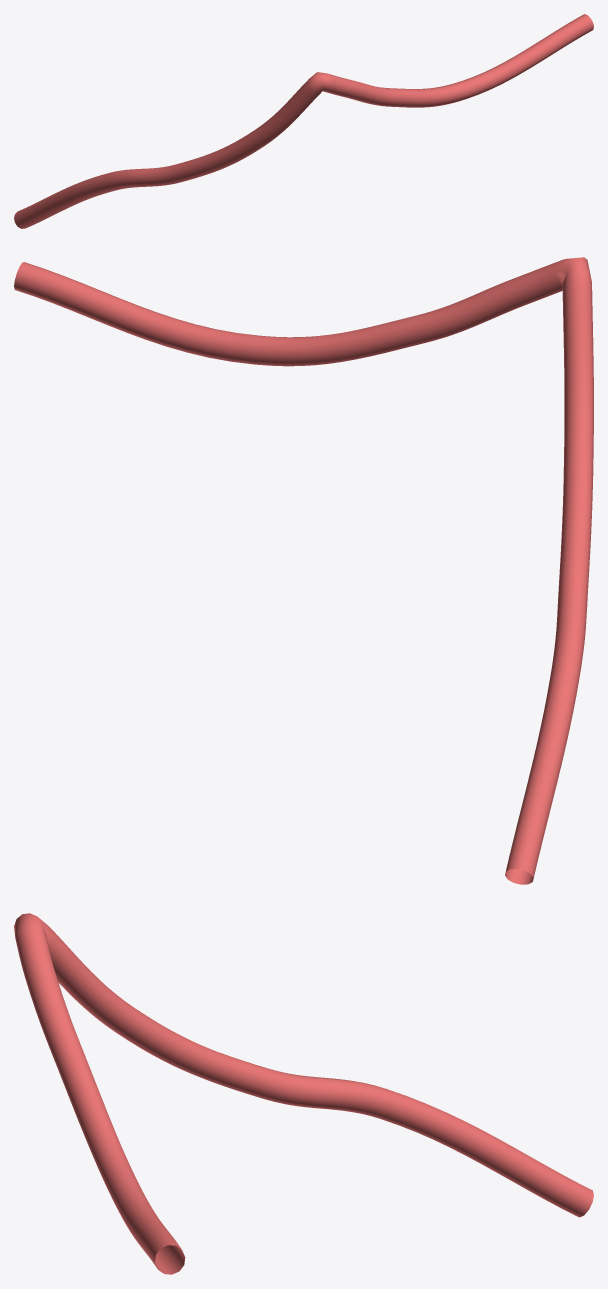
The model's file is Plantar_arch.r_BezierCurve.184.glb.
The picture shows the model from 3 angles, top to bottom: view 1: azimuth 30°, elevation 25°; view 2: azimuth 150°, elevation 25°; view 3: azimuth 270°, elevation 25°; orthographic projection. The views are drawn at different scales.
Visible parts, largest first — view 1: Plantar_arch.r_BezierCurve.184; view 2: Plantar_arch.r_BezierCurve.184; view 3: Plantar_arch.r_BezierCurve.184.
Boxes of the visible parts, <box> form: Plantar_arch.r_BezierCurve.184: <box>14,14,593,228</box>; Plantar_arch.r_BezierCurve.184: <box>14,257,593,884</box>; Plantar_arch.r_BezierCurve.184: <box>14,913,593,1274</box>.
Size of the model in its own units: 0.0443 by 0.023 by 0.0298.
